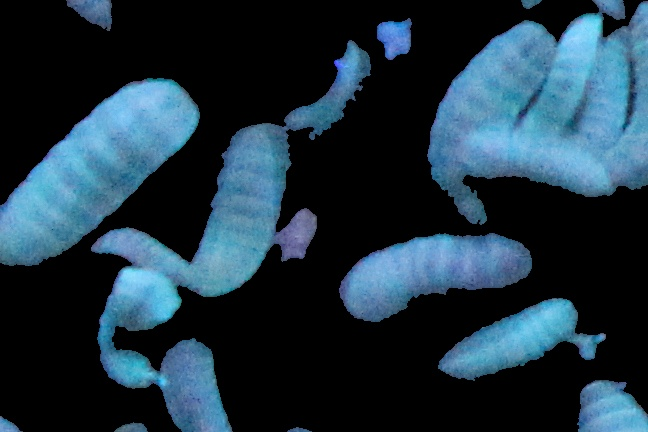larvae: (7, 76, 202, 279), (424, 25, 563, 223), (178, 128, 297, 298), (336, 235, 543, 330), (431, 301, 580, 381), (457, 138, 609, 203), (531, 15, 604, 137), (155, 340, 233, 432), (578, 15, 634, 140), (92, 225, 195, 279)
